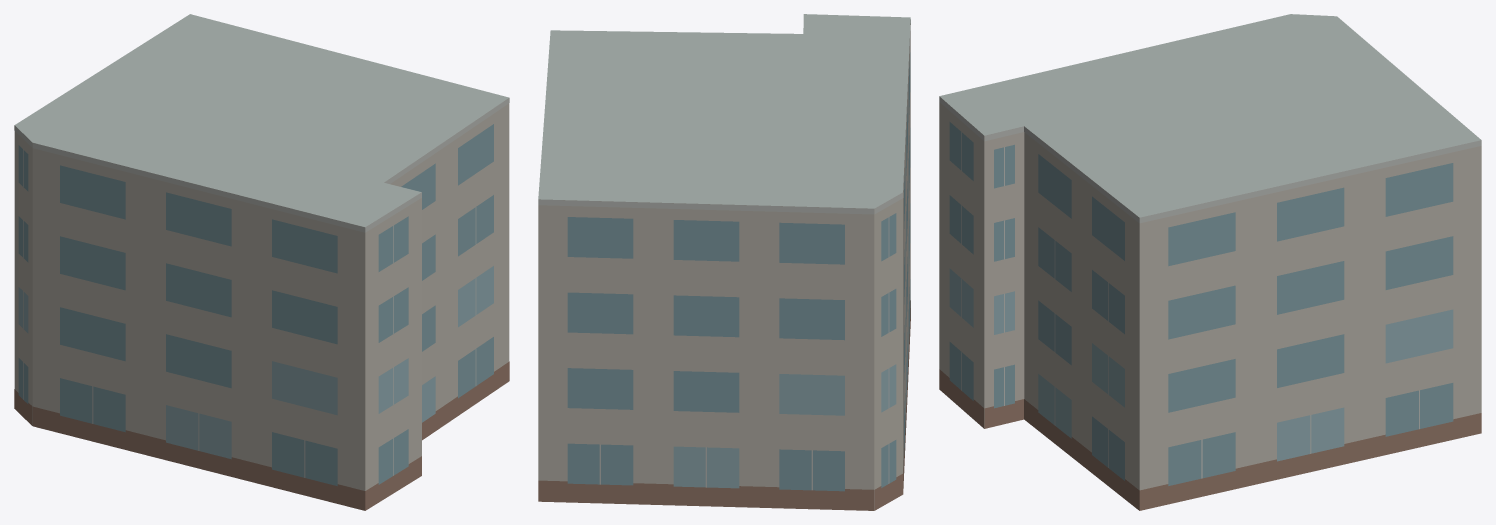
Rendered from survey-upis-32470688.glb.
3 views of the same model, side by side, from view 1: azimuth 30°, elevation 25°; view 2: azimuth 150°, elevation 25°; view 3: azimuth 270°, elevation 25° (orthographic). The views are drawn at different scales.
Parts seen in each view (by area): view 1: survey-upis-32470688.tmp; view 2: survey-upis-32470688.tmp; view 3: survey-upis-32470688.tmp.
Part boxes in pixels (x1,y1,x2,y2): survey-upis-32470688.tmp: (14,14,509,510); survey-upis-32470688.tmp: (538,14,910,510); survey-upis-32470688.tmp: (939,14,1481,510).
Bounding box in the file's own units: 18.79 × 12.6 × 21.14.
